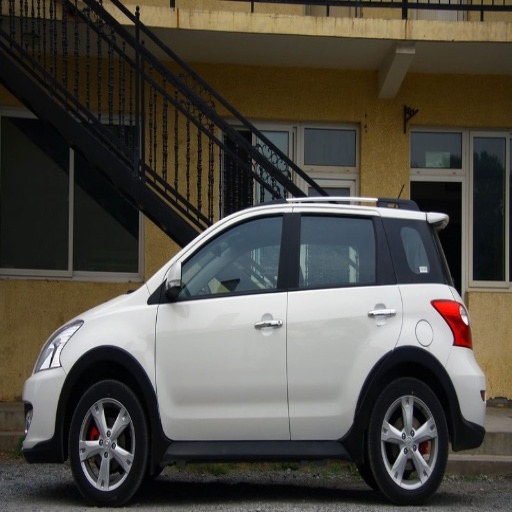back_left_door: (290, 208, 403, 438)
front_left_door: (156, 209, 292, 437)
